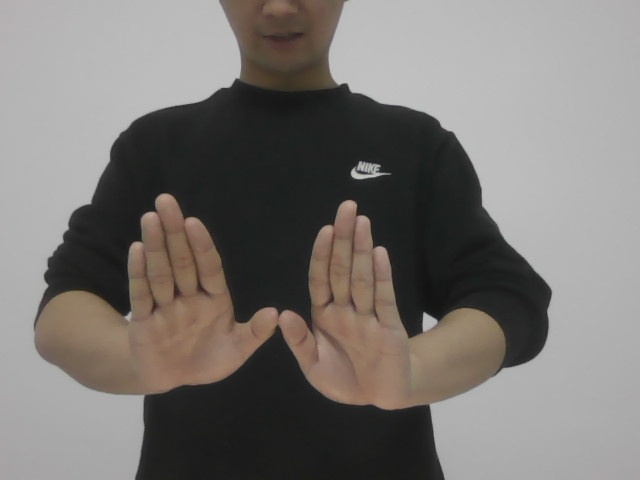door: (116, 179, 416, 416)
